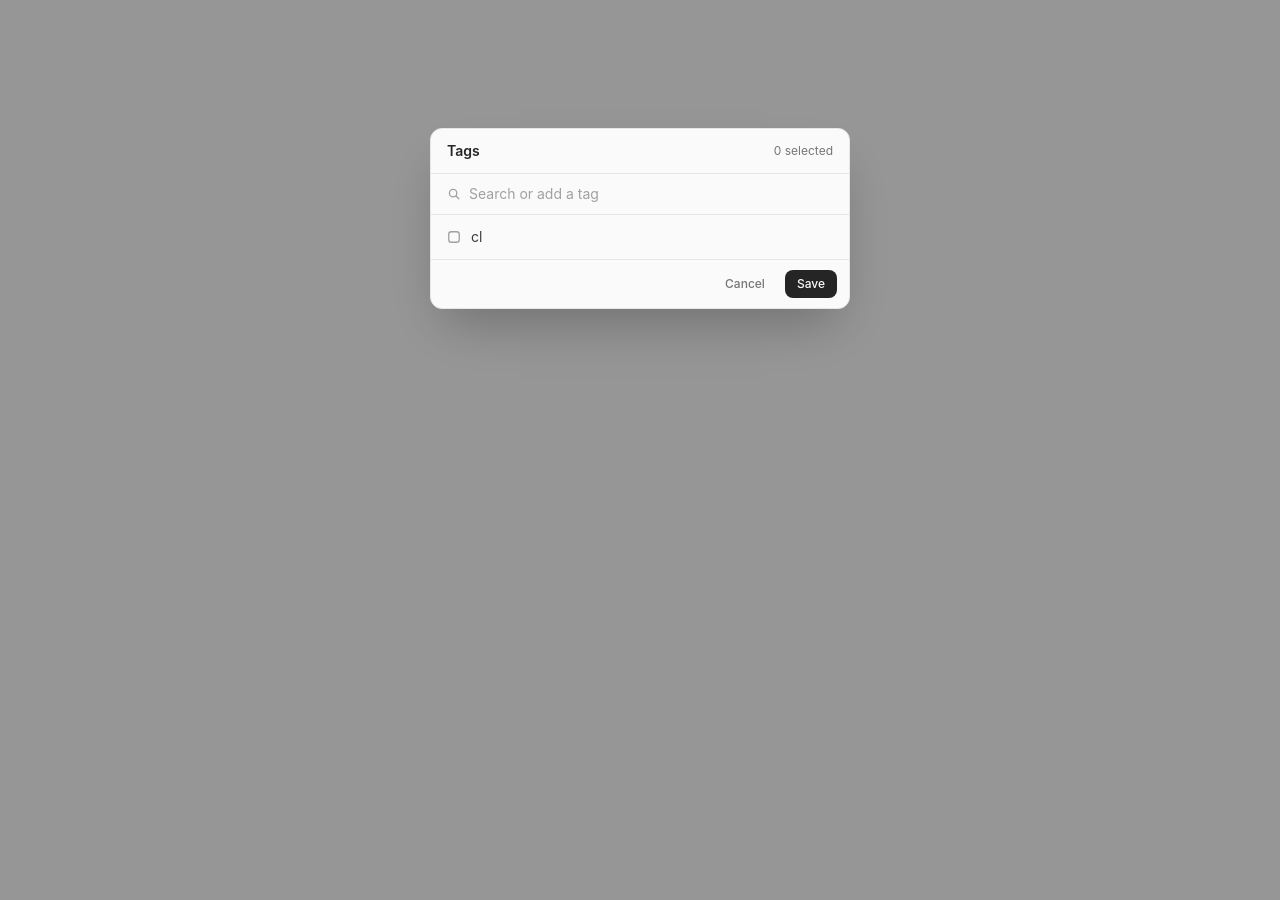
Scenario: TagEditor › Enter on an exact tag name toggles it
The image size is (1280, 900).
Type "cl" into the field labelled "Search or add a tag".
click(651, 194); type("cl")  # box [469,184,833,204]
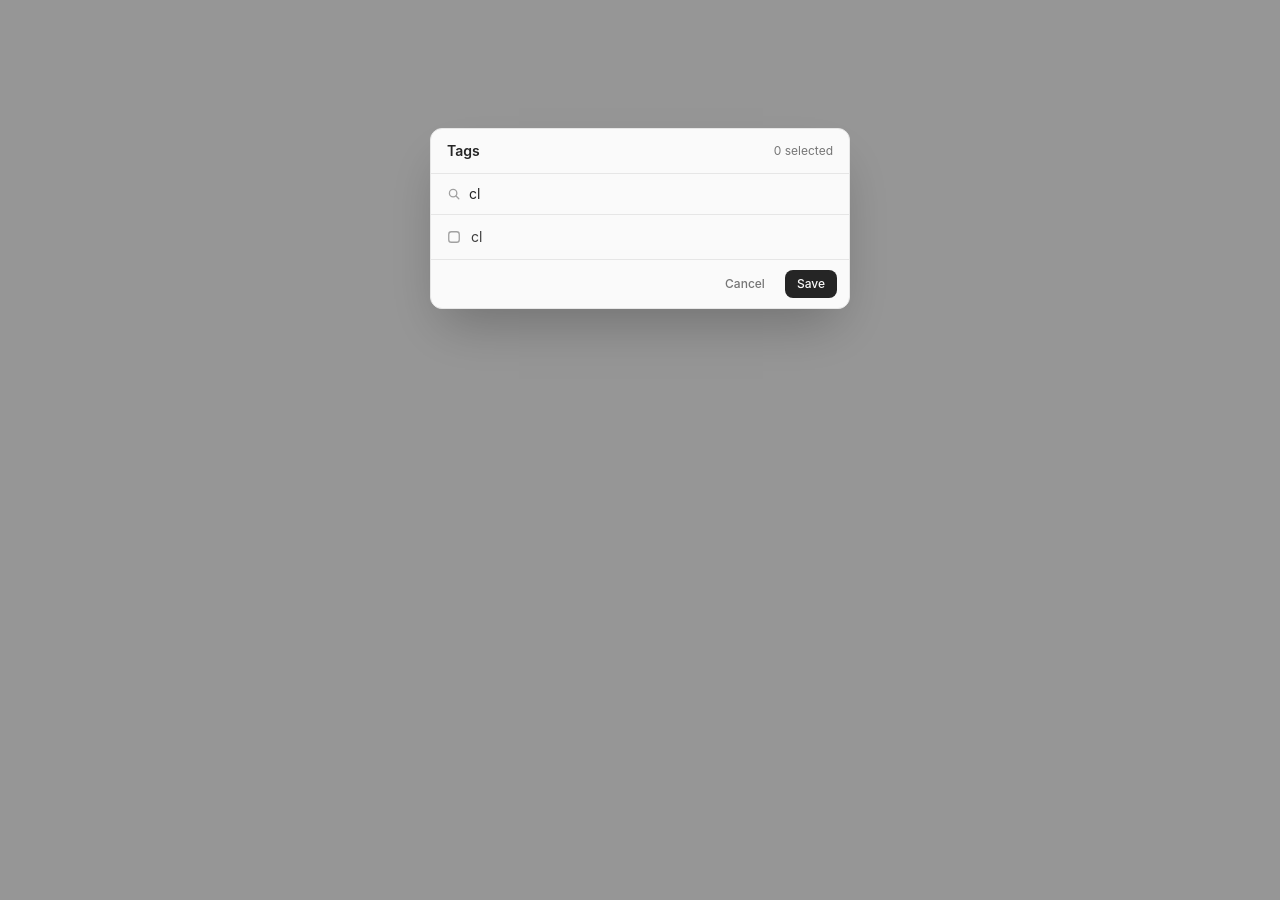
Press Enter in the field named "Search or add a tag", box [469,184,833,204]
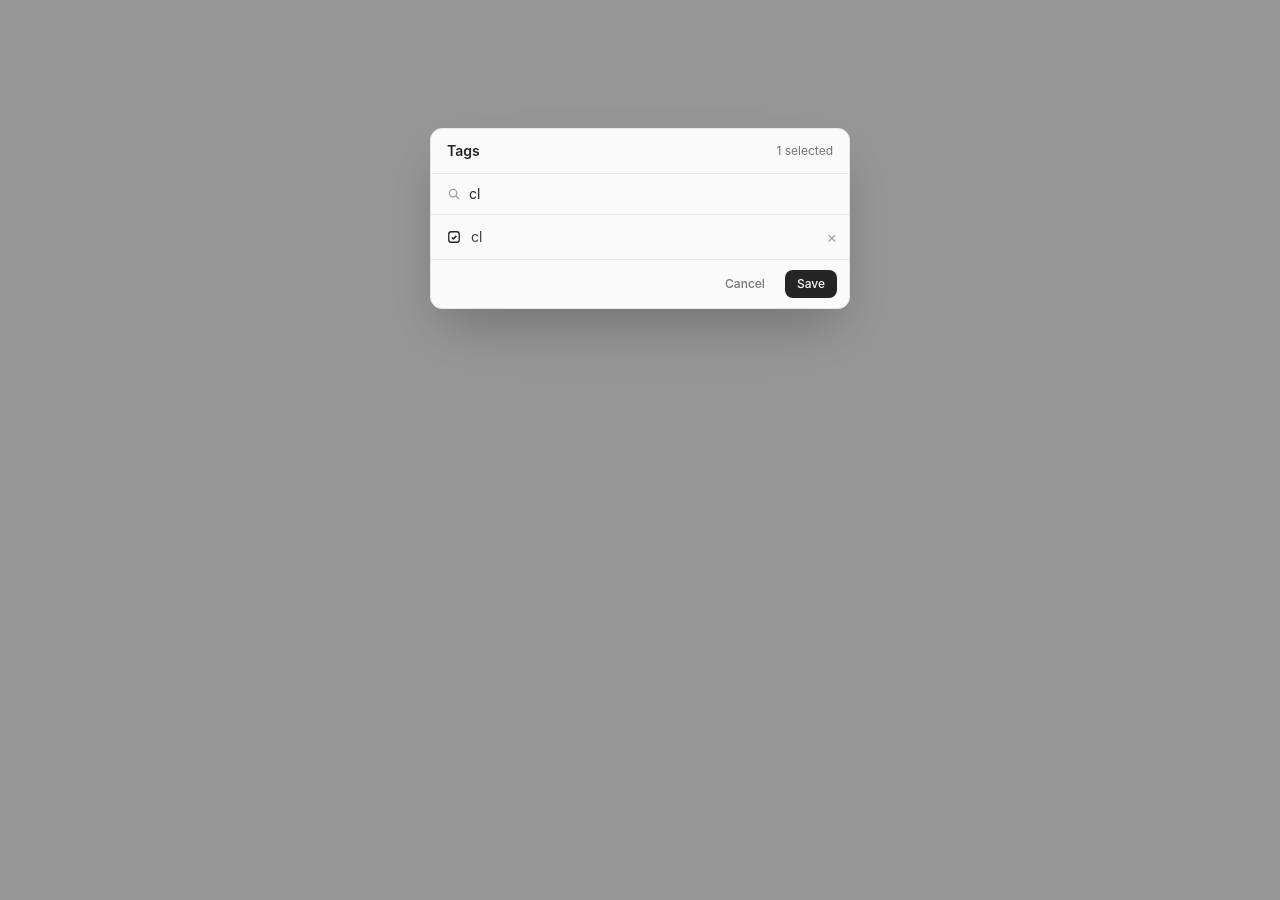
Check: the text "1 selected" is shown, box [776,143,833,159]
Press Enter in the field named "Search or add a tag", box [469,184,833,204]
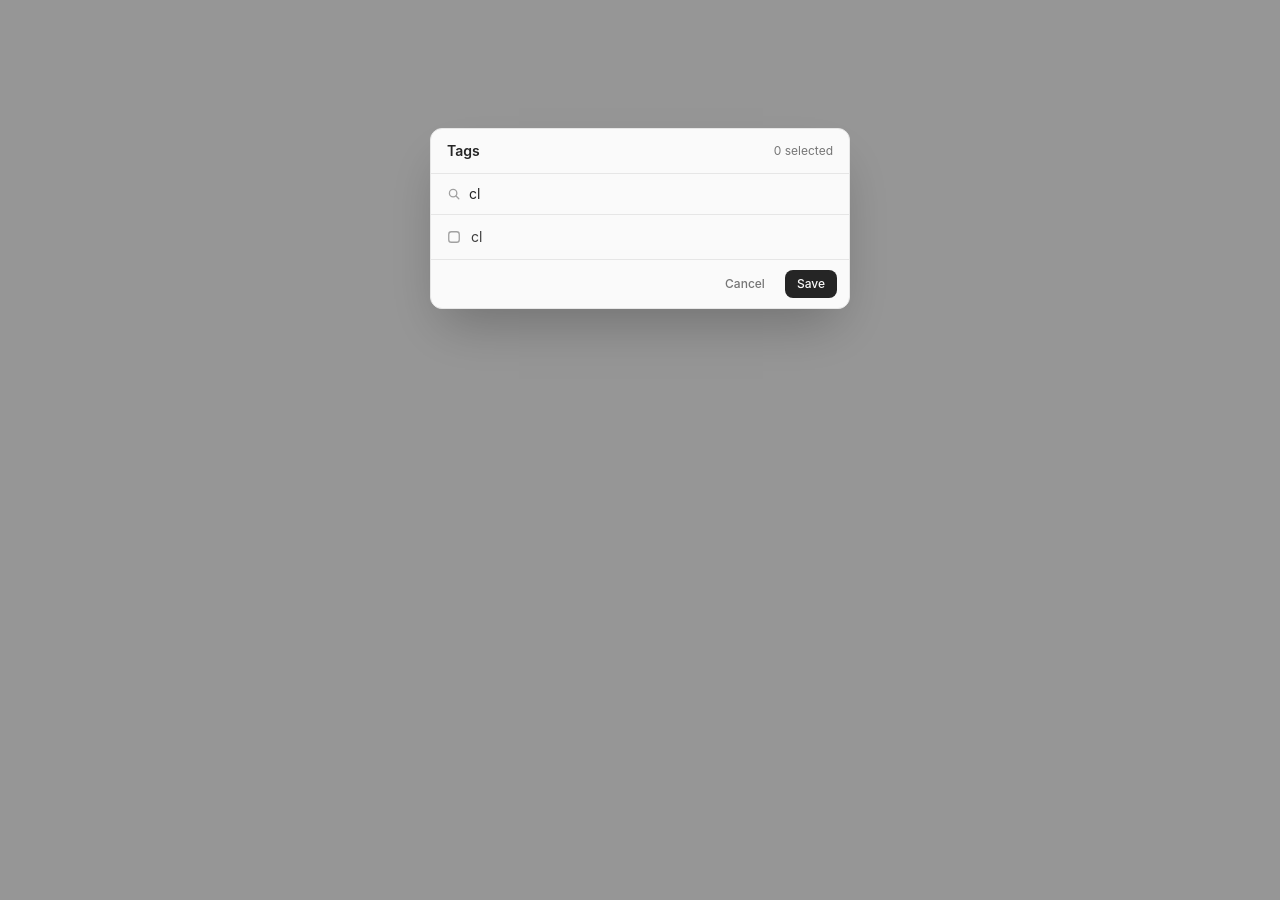
Check: the text "0 selected" is shown, box [774,143,833,159]
